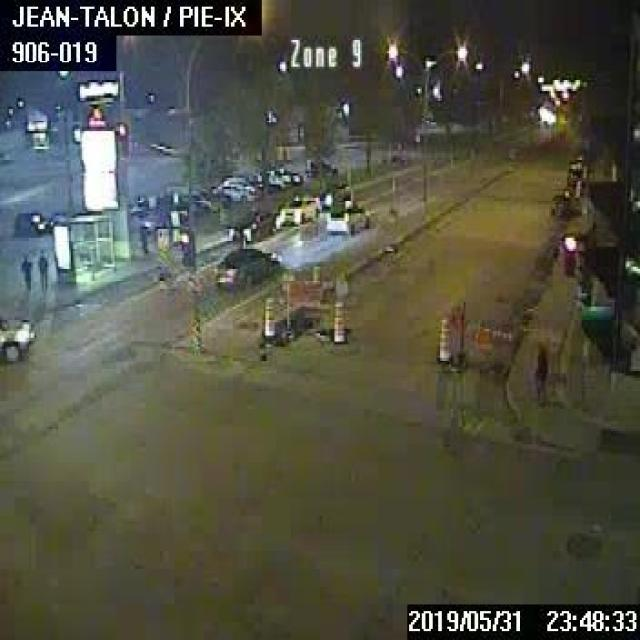construction: (271, 264, 346, 341), (448, 299, 512, 374), (434, 316, 449, 361), (331, 299, 346, 342), (260, 294, 274, 336)
pedestrian: (533, 340, 545, 398), (36, 246, 46, 289), (20, 249, 31, 287), (138, 224, 148, 254)
vehicle: (212, 246, 278, 288), (0, 309, 35, 362), (224, 210, 274, 240), (324, 198, 368, 232), (276, 196, 320, 222), (312, 181, 350, 208), (211, 181, 258, 202), (180, 188, 218, 210), (12, 211, 50, 233), (549, 188, 569, 218), (304, 156, 334, 176)
